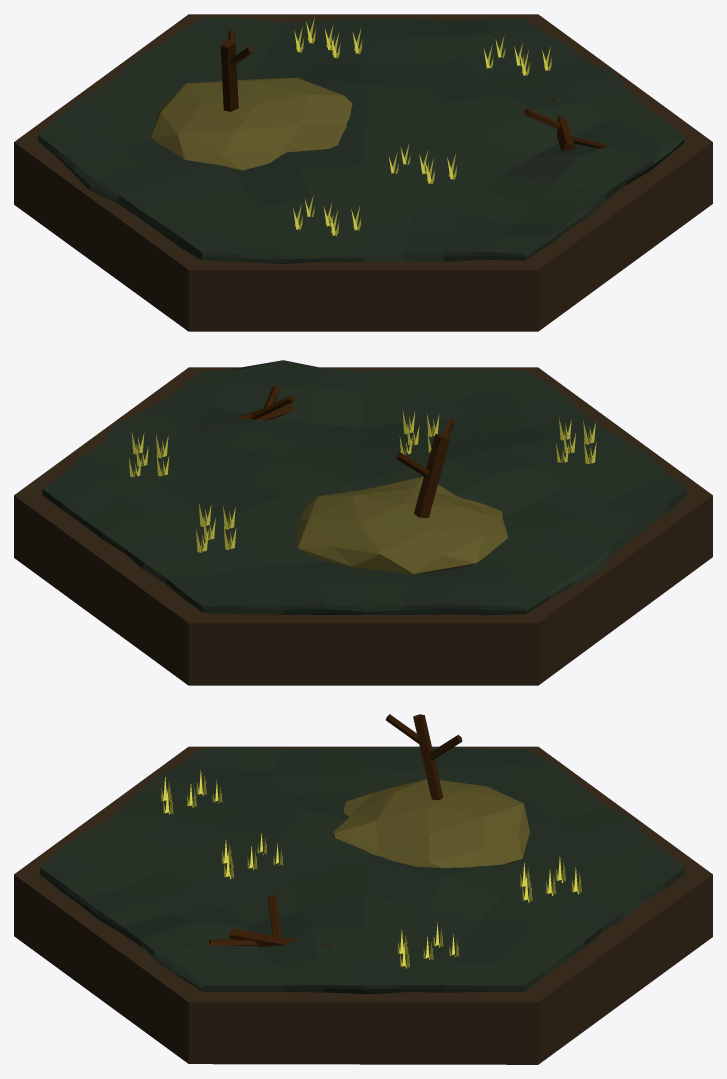
Rendered from biome_swamp.fbx.
3 renders of one model, top to bottom at view 1: azimuth 30°, elevation 25°; view 2: azimuth 150°, elevation 25°; view 3: azimuth 270°, elevation 25°, orthographic.
Visible parts, largest first — view 1: Hexagon.001, Hexagon, Icosphere, Cone, Cylinder.001, Cylinder.002; view 2: Hexagon.001, Hexagon, Icosphere, Cone, Cylinder.001, Cylinder.002; view 3: Hexagon.001, Hexagon, Icosphere, Cone, Cylinder.001, Cylinder.002.
Part boxes in pixels (bbox=[...]): Hexagon.001: bbox=[37, 18, 684, 263]; Hexagon: bbox=[14, 14, 712, 331]; Icosphere: bbox=[151, 77, 352, 170]; Cone: bbox=[293, 17, 552, 236]; Cylinder.001: bbox=[220, 30, 253, 111]; Cylinder.002: bbox=[524, 99, 606, 151]; Hexagon.001: bbox=[42, 360, 686, 615]; Hexagon: bbox=[14, 367, 712, 685]; Icosphere: bbox=[296, 476, 507, 574]; Cone: bbox=[129, 410, 596, 552]; Cylinder.001: bbox=[396, 418, 454, 517]; Cylinder.002: bbox=[204, 385, 294, 429]; Hexagon.001: bbox=[39, 746, 684, 993]; Hexagon: bbox=[14, 746, 712, 1064]; Icosphere: bbox=[332, 779, 529, 867]; Cone: bbox=[161, 770, 581, 968]; Cylinder.001: bbox=[386, 714, 462, 800]; Cylinder.002: bbox=[209, 895, 331, 948].
Bounding box in the file's own units: 173 × 54.81 × 200.
